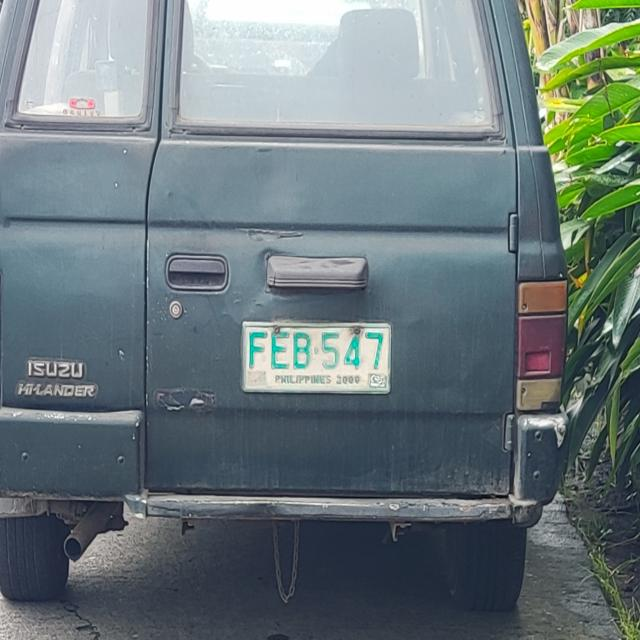plate: (241, 320, 392, 396)
